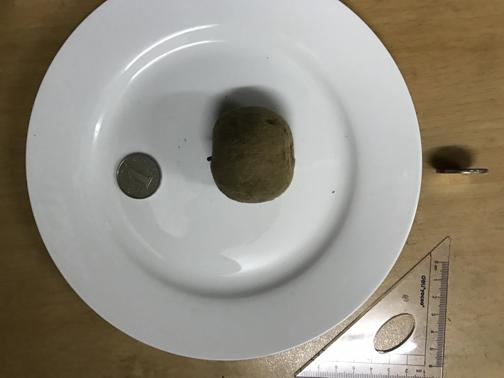coin: (114, 152, 162, 200)
qiwi: (208, 107, 296, 204)
